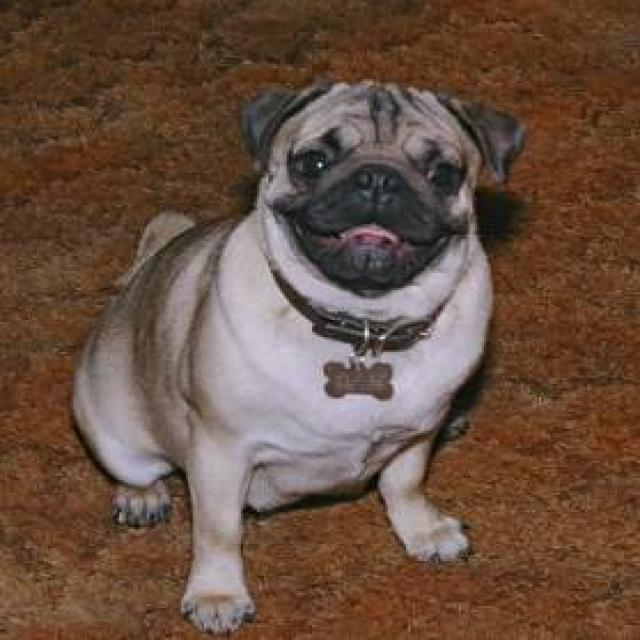dog-pug: (57, 70, 534, 636)
